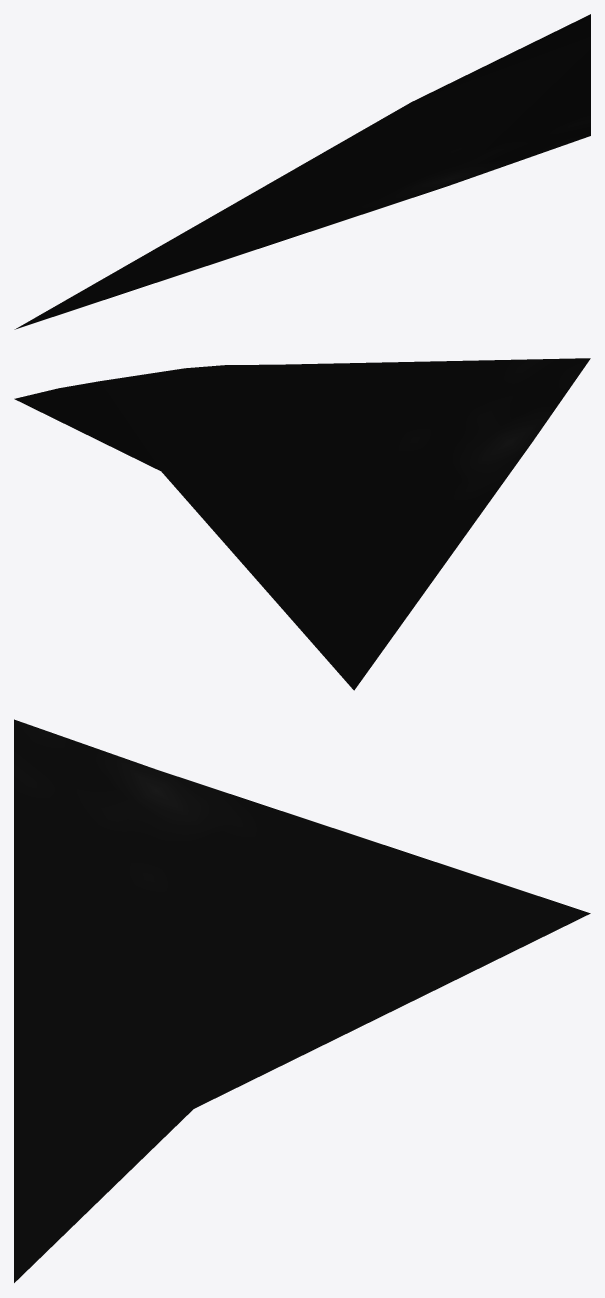
The picture shows the model from 3 angles, top to bottom: view 1: azimuth 90°, elevation 25°; view 2: azimuth 150°, elevation 25°; view 3: azimuth 270°, elevation 25°; orthographic projection. The views are drawn at different scales.
Size of the model in its own units: 0.266 by 0.08 by 0.1891.
Materials: 1 (1 with a texture image).
